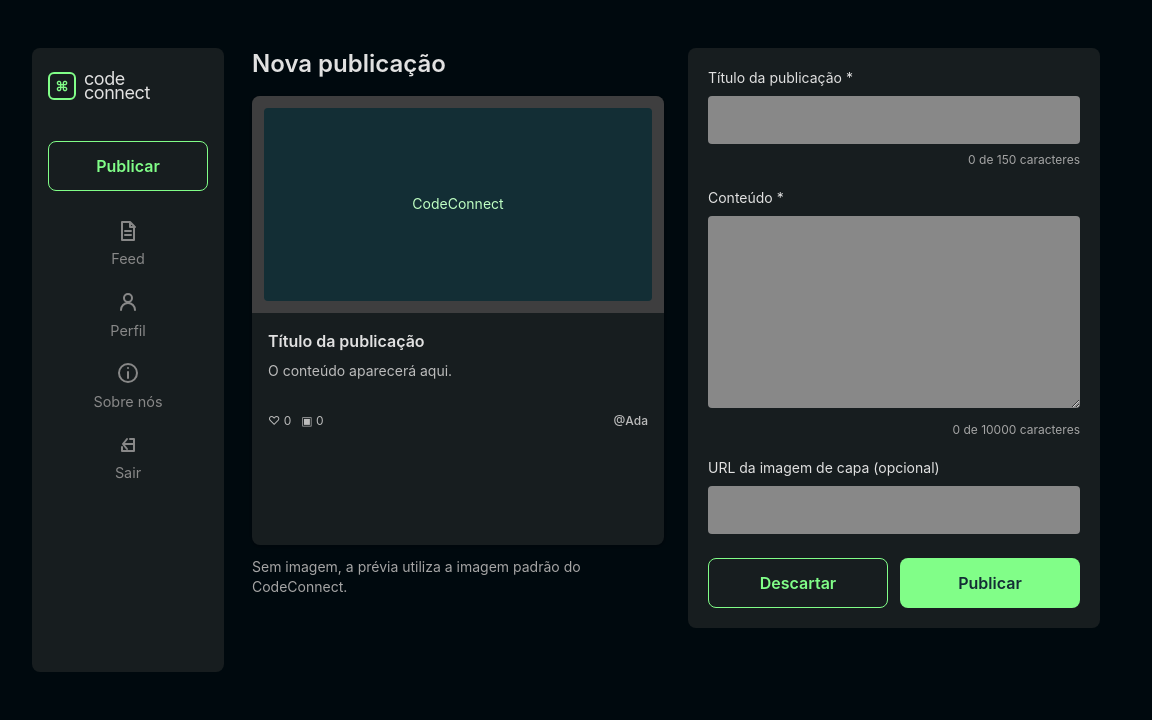
Scenario: PublishPage › validates, focuses the first invalid field, and updates counters
The width and height of the screenshot is (1152, 720).
Click the button "Publicar" at coordinates (990, 583), box top-left (900, 558), bottom-right (1080, 608)
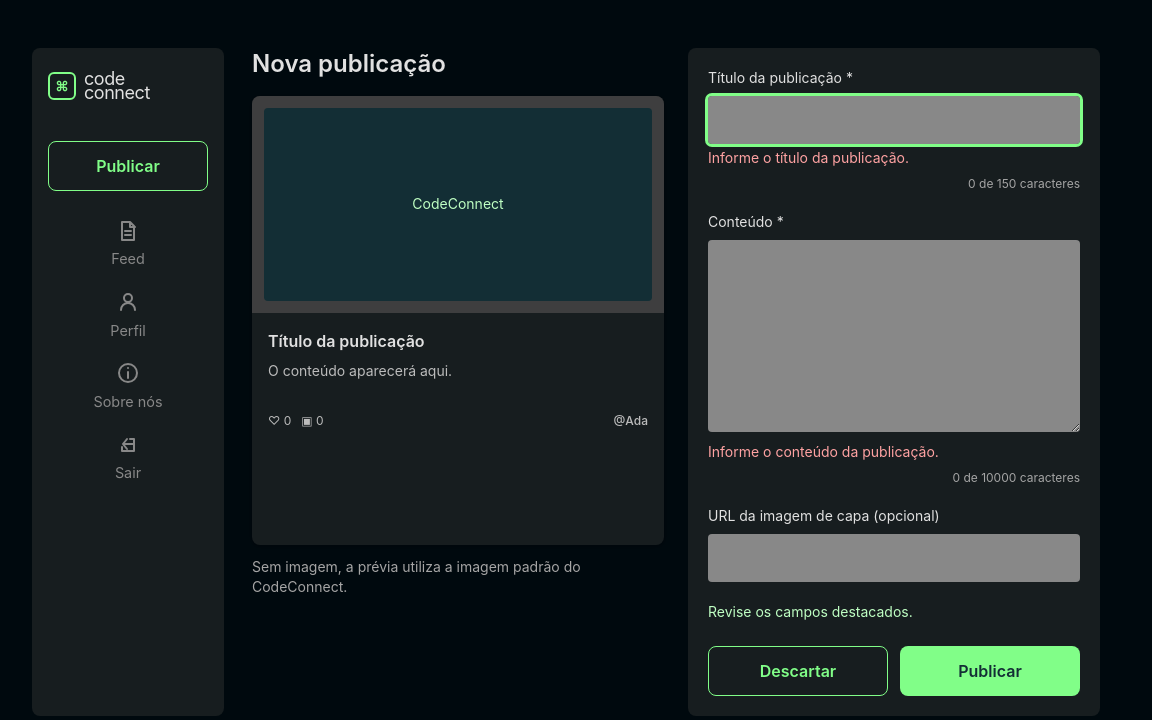
Now the text "Informe o título da publicação." is shown, box top-left (708, 149), bottom-right (909, 166)
Type "Oi" into the field labelled "Título da publicação *" at coordinates (894, 120), box top-left (708, 96), bottom-right (1080, 144)
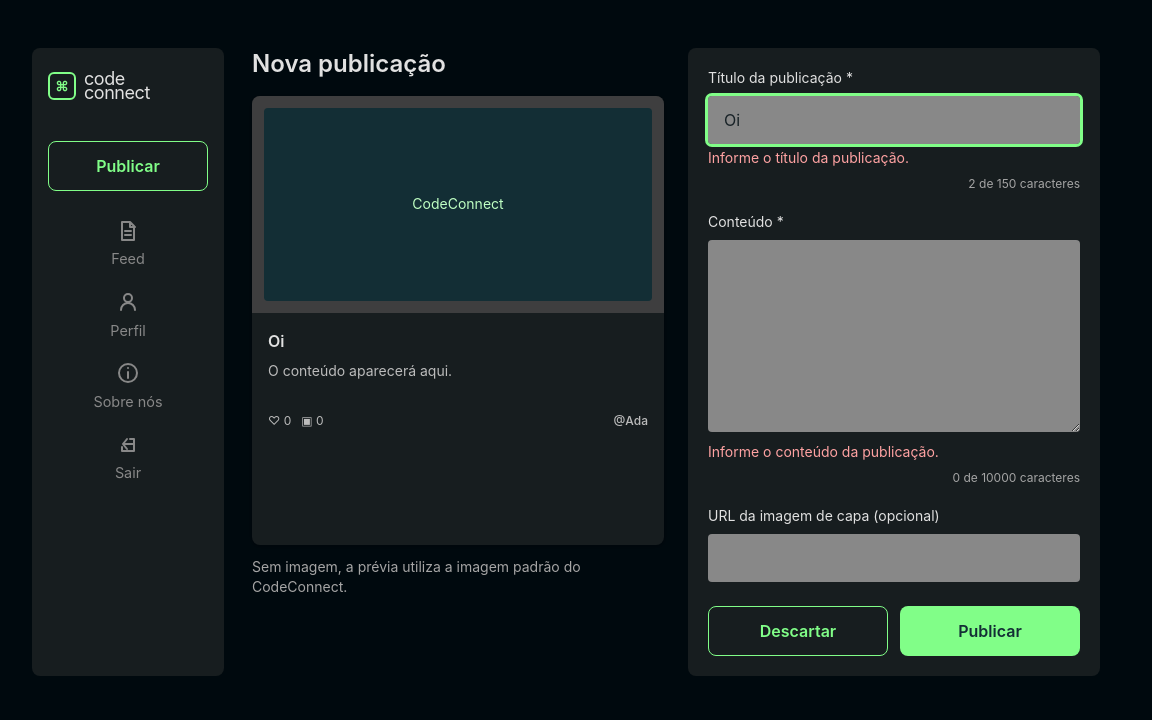
Now the text "2 de 150 caracteres" is shown, box top-left (968, 176), bottom-right (1080, 191)
Press Tab
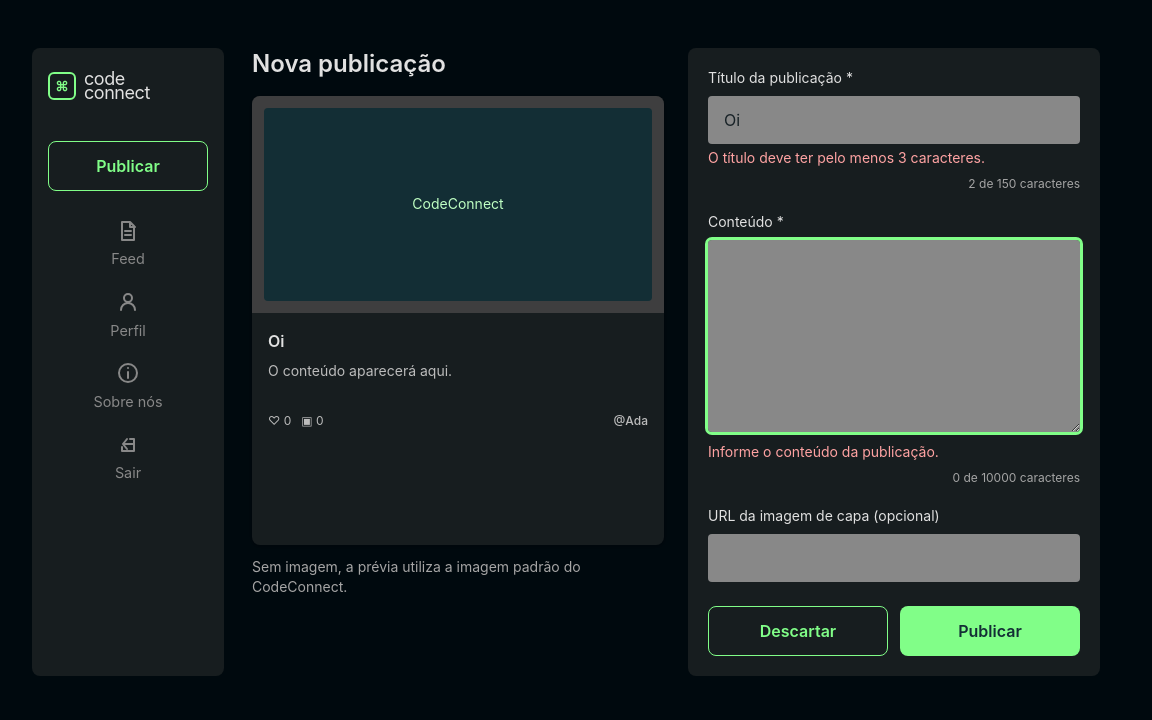
Now the text "O título deve ter pelo menos 3 caracteres." is shown, box top-left (708, 149), bottom-right (985, 166)
